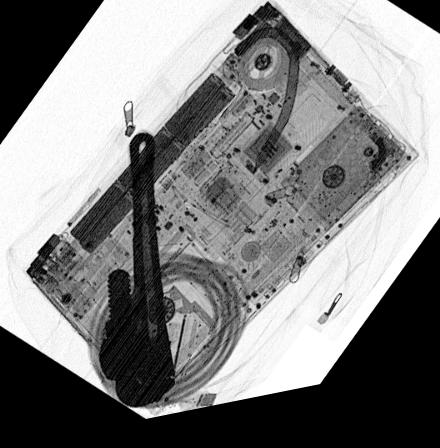Wrench: (95, 135, 178, 415)
